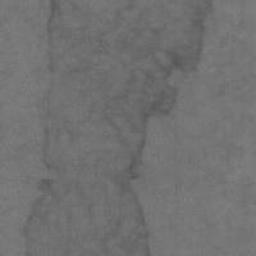Water spot: (17, 0, 215, 256)
